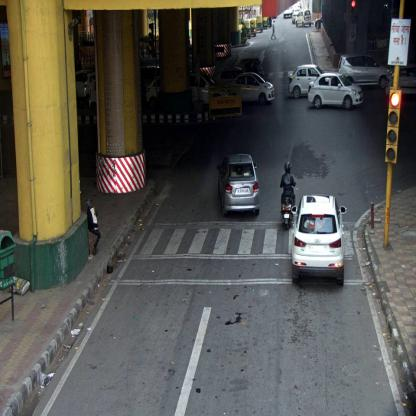car: (290, 196, 347, 286), (216, 156, 260, 217), (307, 73, 363, 107), (337, 56, 388, 90), (230, 73, 274, 104), (288, 63, 322, 97), (294, 10, 312, 29)
motorcycle: (280, 162, 296, 229)
